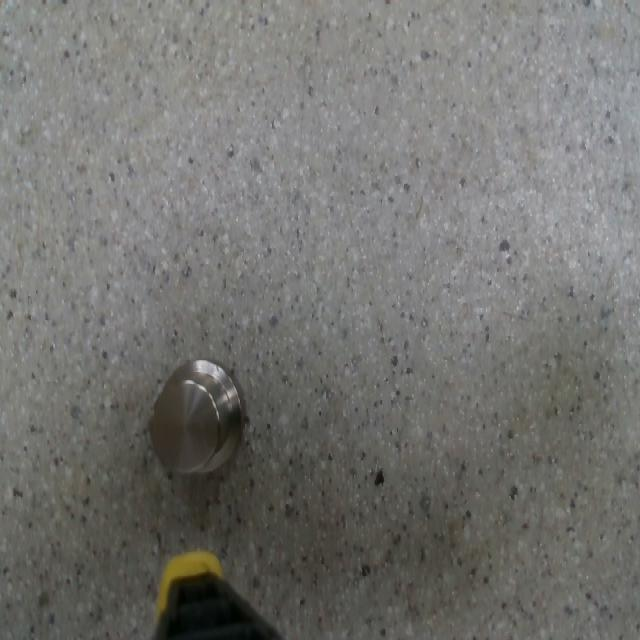sensor: (148, 357, 247, 475)
